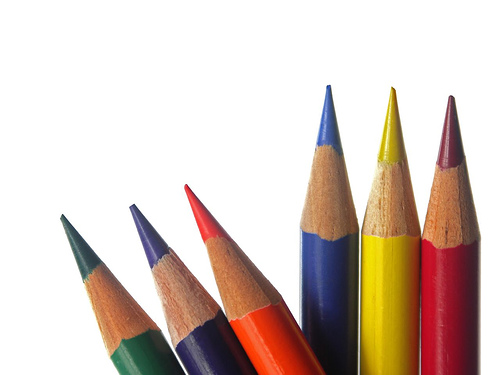pen_tip: (295, 82, 363, 289)
